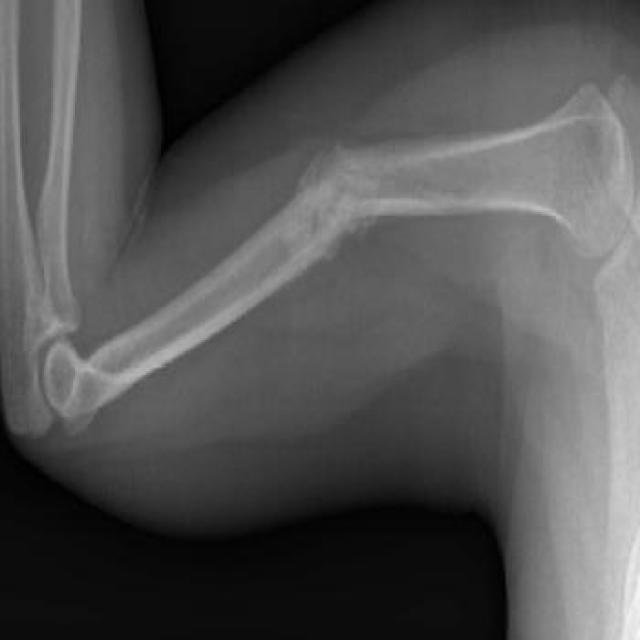Fracture: (294, 135, 376, 276)
